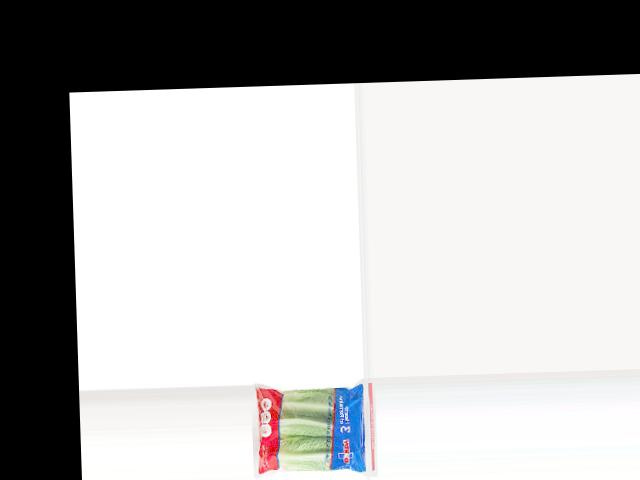lettuce: (251, 382, 371, 480)
